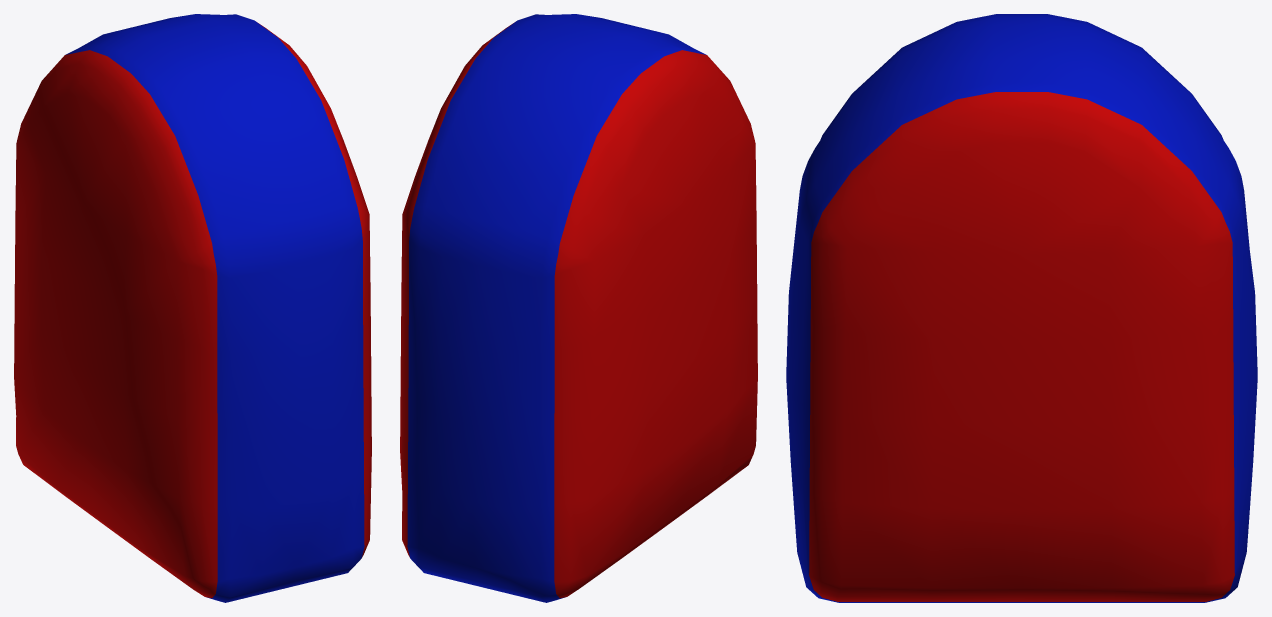
File: Tombstone-Webview.glb
3 renders of one model, left to right at view 1: azimuth 30°, elevation 25°; view 2: azimuth 150°, elevation 25°; view 3: azimuth 270°, elevation 25°, orthographic. The views are drawn at different scales.
Parts seen in each view (by area): view 1: Tombstone; view 2: Tombstone; view 3: Tombstone.
Boxes of the visible parts, <box> form: Tombstone: <box>14,14,371,602</box>; Tombstone: <box>400,14,757,602</box>; Tombstone: <box>786,14,1257,602</box>.
Size of the model in its own units: 0.7813 by 1.66 by 1.33.
